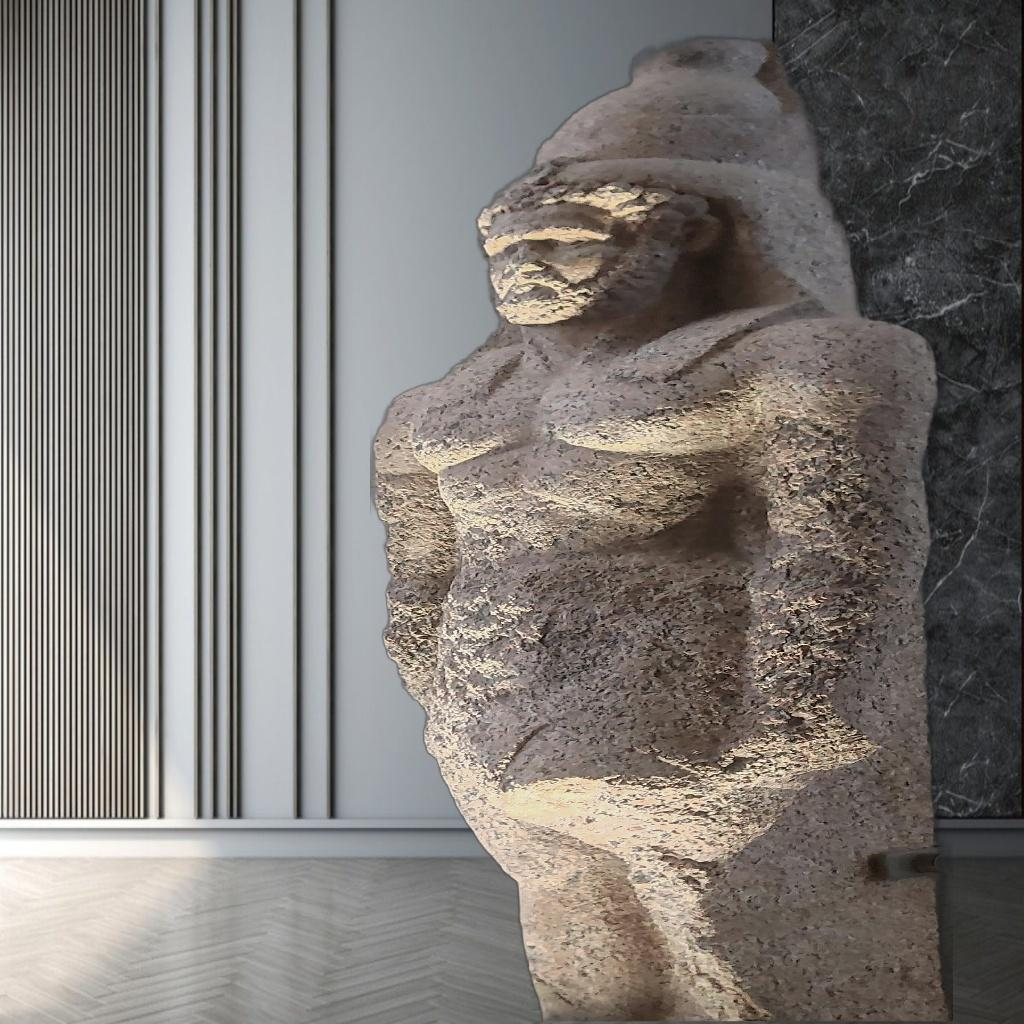Statue of Carcala: (370, 34, 953, 1022)
